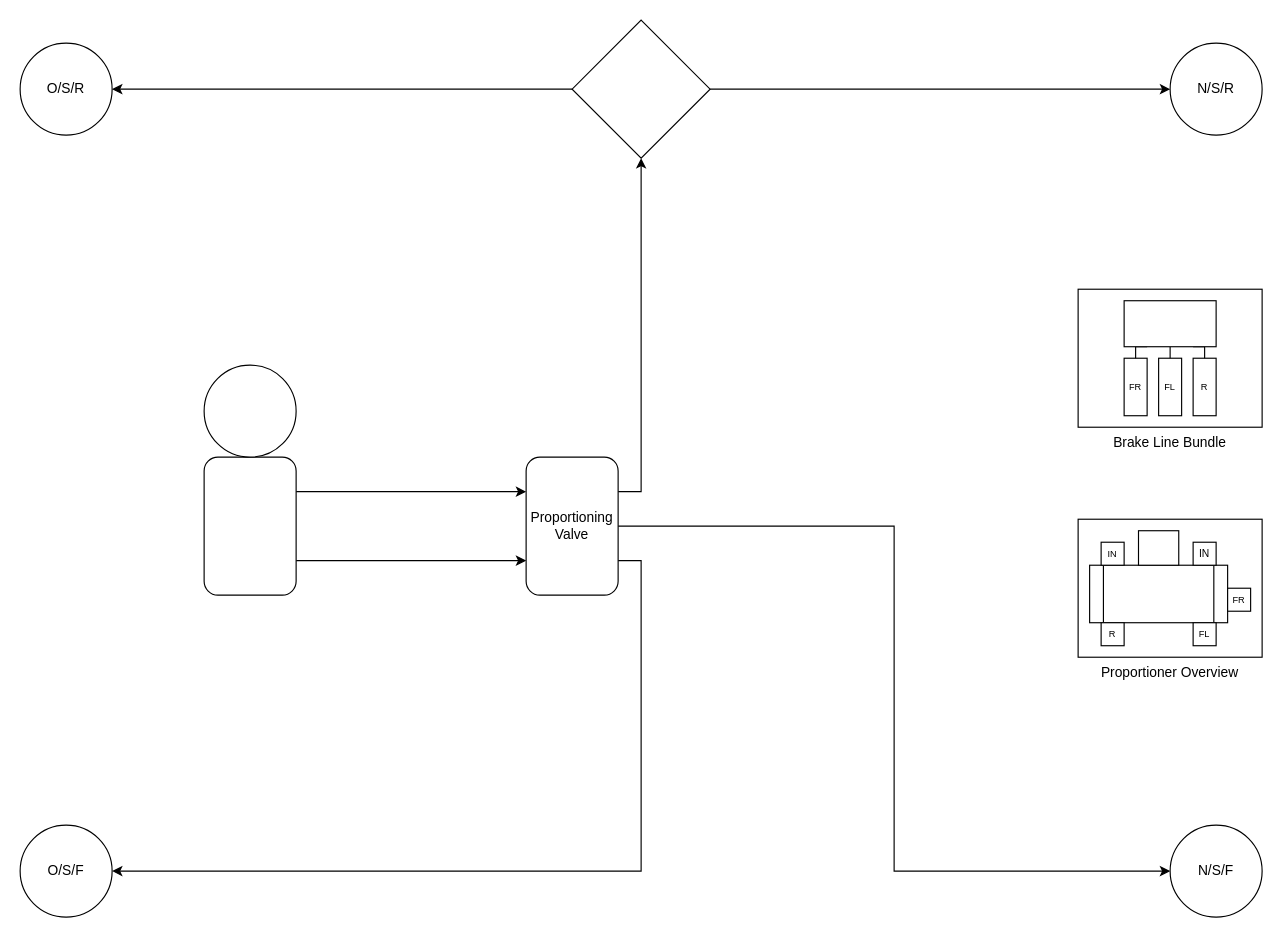
This 1282x937 diagram has some shape labels left out. Each missing label, with the centre of its shape:
"Booster" belongs at (x=249, y=410).
"Master Cylinder" belongs at (x=249, y=525).
"Proportioner" belongs at (x=1169, y=323).
"Rear Axle Distribution Block" belongs at (x=640, y=88).
"Switch" belongs at (x=1158, y=547).
